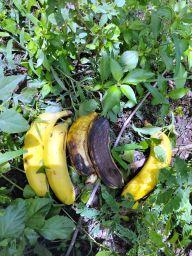banana: (20, 106, 76, 200), (117, 117, 174, 204), (86, 113, 128, 190), (43, 117, 78, 208), (63, 106, 103, 185)
